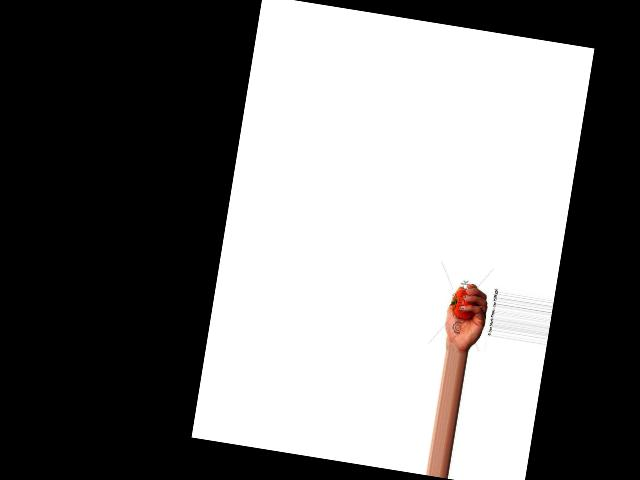tomato: (450, 287, 480, 320)
